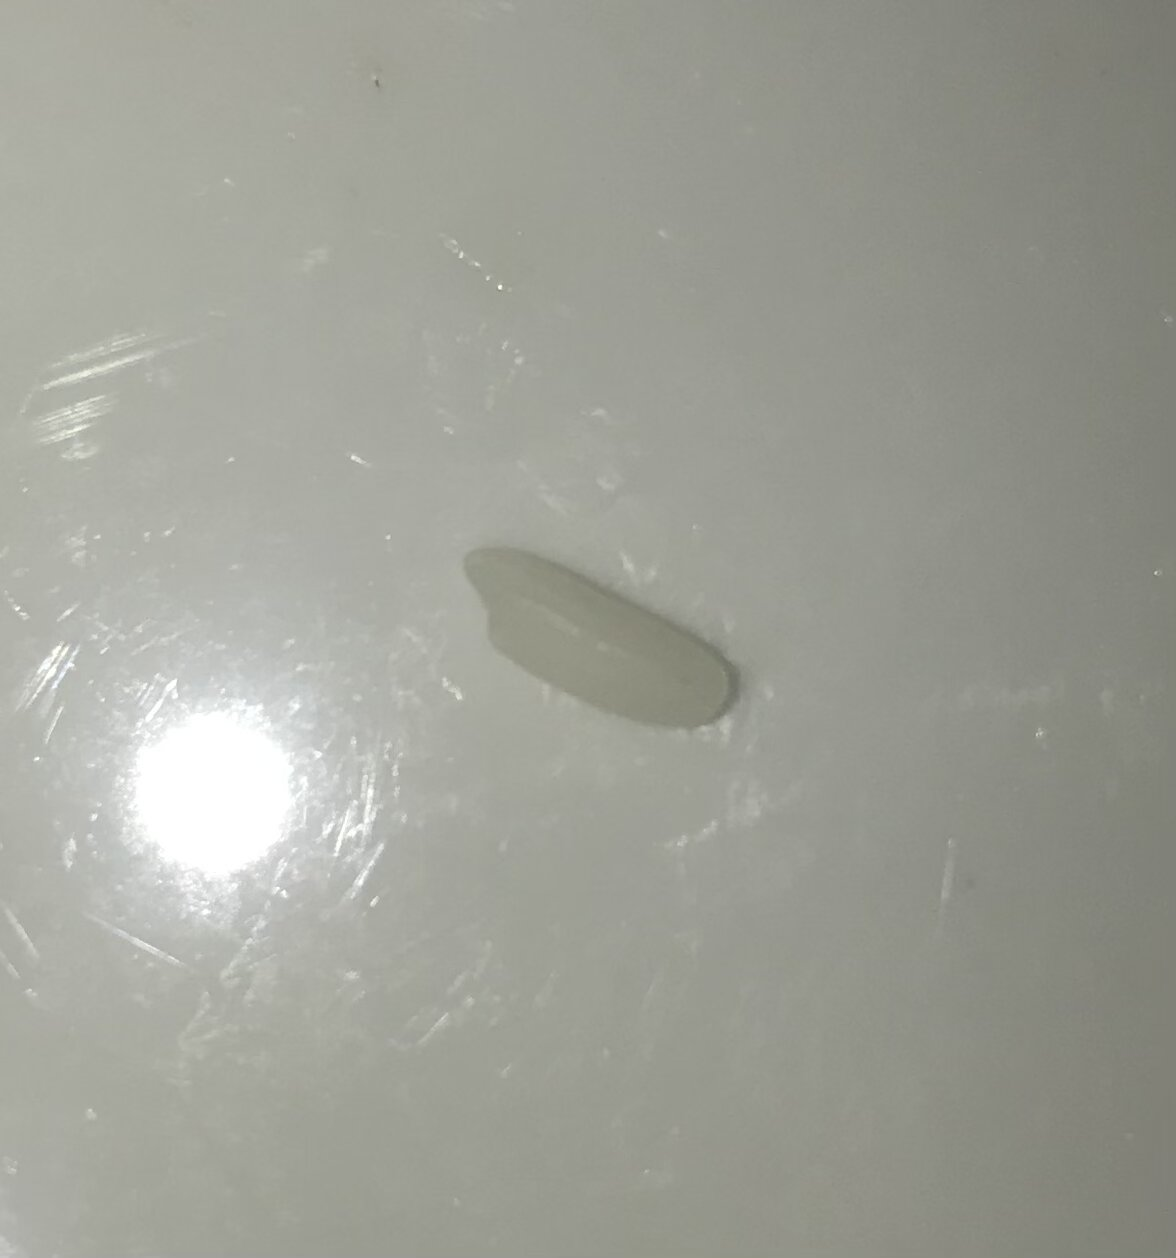Gao Lai Sua: (456, 536, 743, 738)
